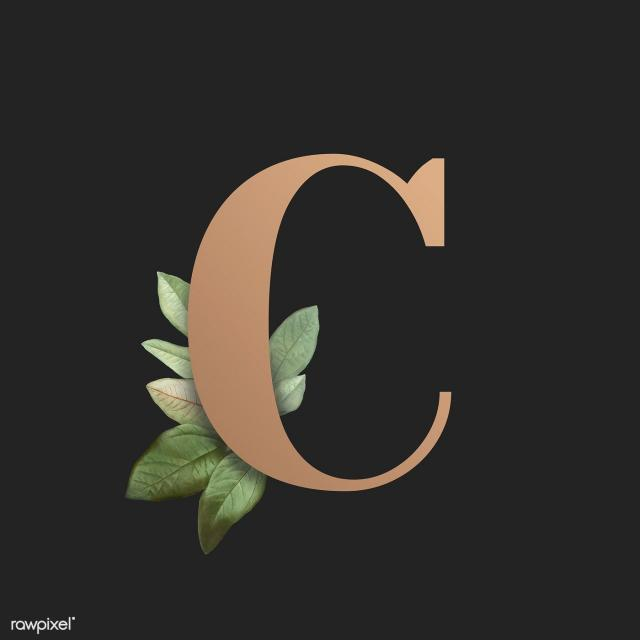C: (125, 98, 521, 527)
